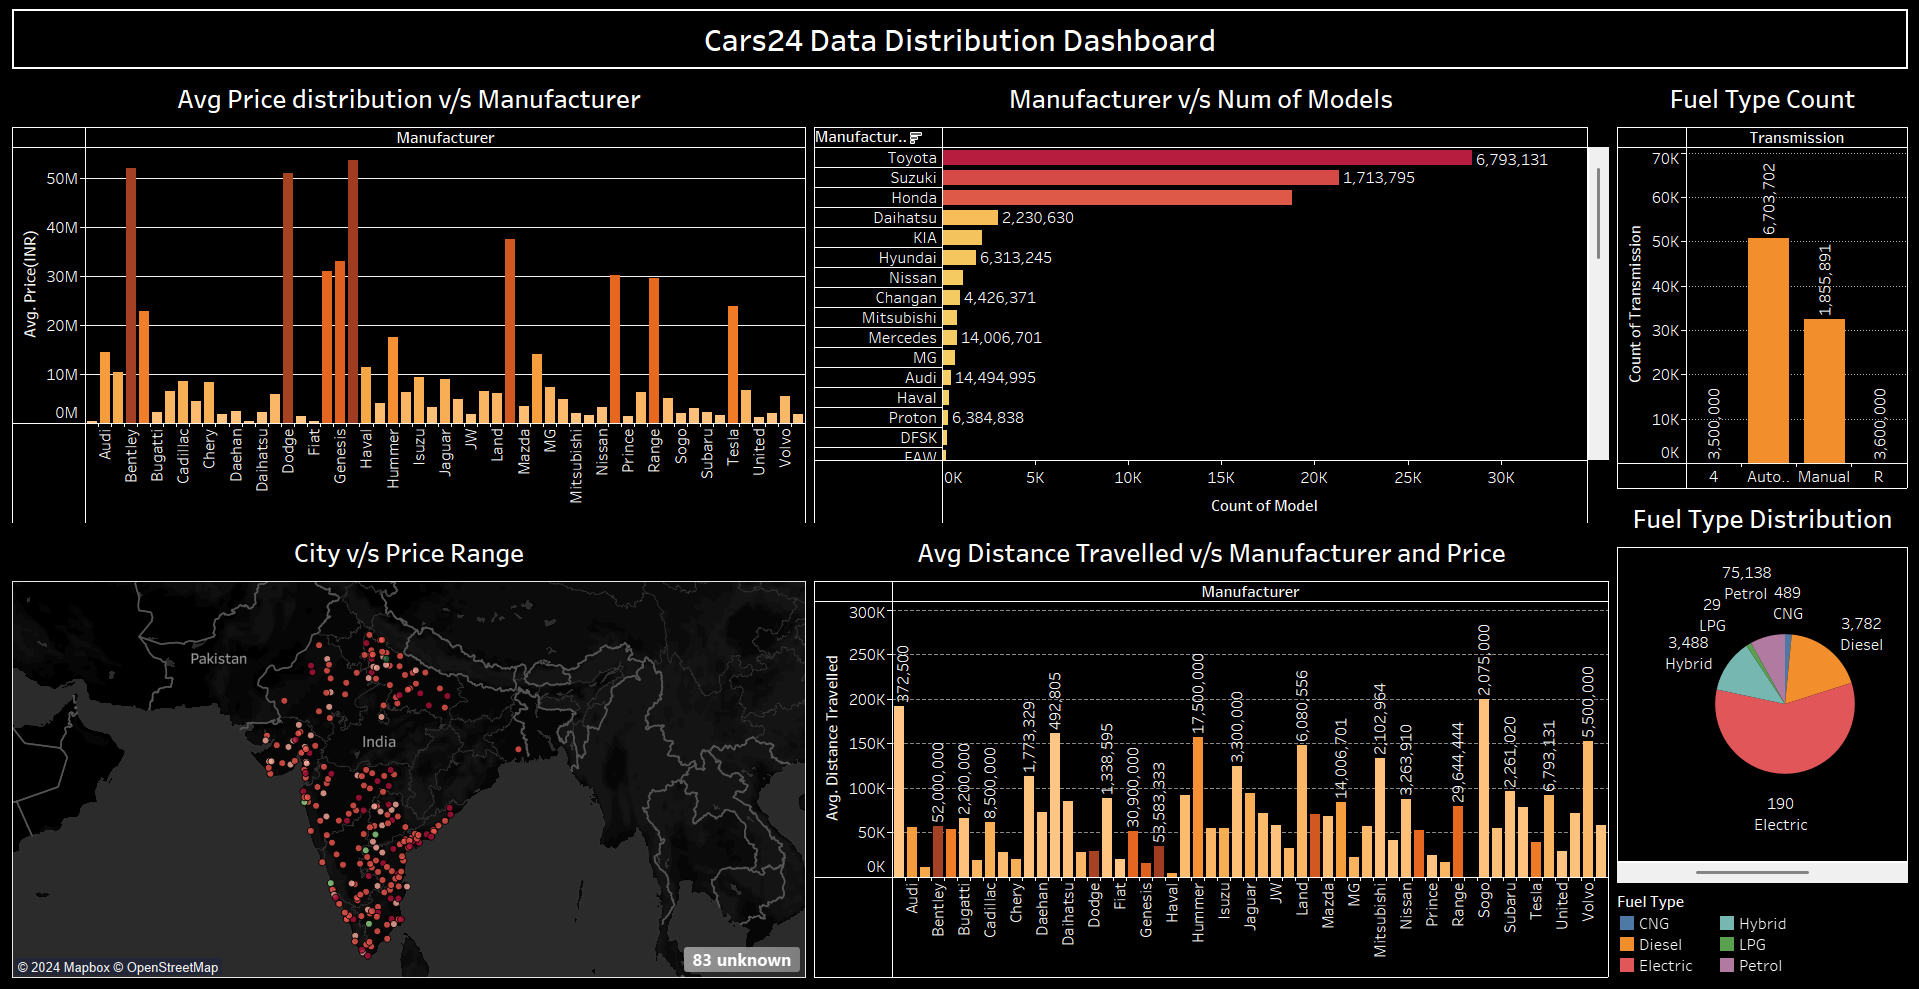

What the dashboard file says about the page in this screenshot:
{"tool":"tableau","page":{"name":"Dashboard 1","canvas":[1000,1000],"units":"permille","ordinal":0},"visuals":[{"type":"title","box":[4.2,10.2,991.7,67.9]},{"type":"worksheet","title":"Sheet 1","mark":"Automatic","rows":["Price(INR)"],"cols":["Manufacturer"],"box":[4.2,78.1,417.9,455.7]},{"type":"worksheet","title":"Sheet 2","mark":"Automatic","rows":["Manufacturer"],"cols":["Model"],"box":[422.1,78.1,418,455.7]},{"type":"worksheet","title":"Sheet 6","mark":"Automatic","rows":["Transmission"],"cols":["Transmission"],"box":[840.1,78.1,155.7,285.5]},{"type":"worksheet","title":"Sheet 5","mark":"Pie","box":[840.1,363.6,155.7,504.5]},{"type":"worksheet","title":"Sheet 3","mark":"Multipolygon","box":[4.2,533.8,417.9,455.9]},{"type":"worksheet","title":"Sheet 4","mark":"Automatic","rows":["Distance Travelled"],"cols":["Manufacturer"],"box":[422.1,533.8,418,455.9]},{"type":"legend","title":"Sheet 5","param":"[federated.0vh3u571r3uxg814owdp61n3oy5y].[none:Fuel Type:nk]","box":[840.1,868.1,155.7,121.6]}]}

Visuals, with their boxes on the dashboard's canvas, which has no fixed pixel size, in thousandths of its width and height (x1, y1, x2, y2). These are canvas units, not pixel positions in the 1919x989 screenshot, which may show the page scaled, cropped or inside an application window:
title: 4:10:996:78
"Sheet 1" worksheet: 4:78:422:534
"Sheet 2" worksheet: 422:78:840:534
"Sheet 6" worksheet: 840:78:996:364
"Sheet 5" worksheet (Pie marks): 840:364:996:868
"Sheet 3" worksheet (Multipolygon marks): 4:534:422:990
"Sheet 4" worksheet: 422:534:840:990
"Sheet 5" legend: 840:868:996:990
